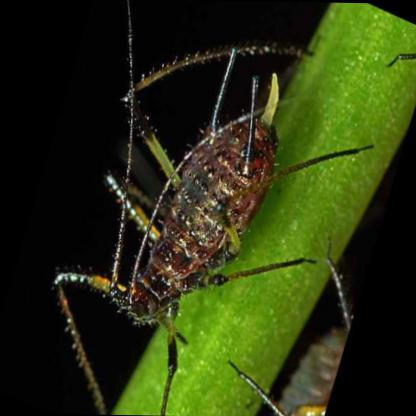uroleucon compositae: (53, 50, 364, 378)
